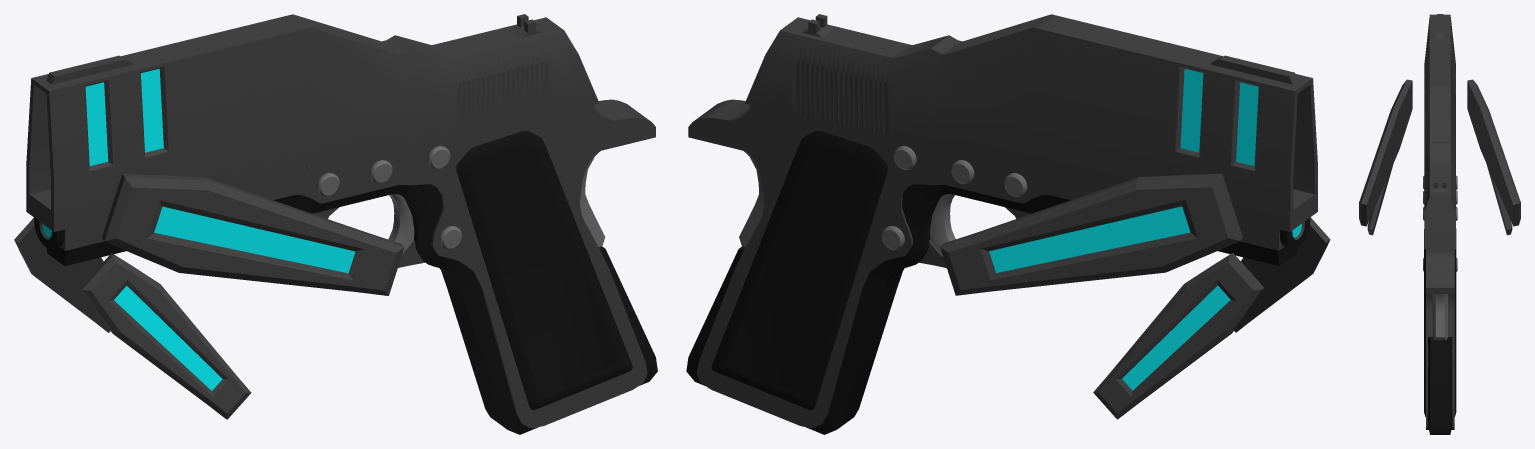
The model's file is Scifigun.FBX.
3 renders of one model, left to right at view 1: azimuth 30°, elevation 25°; view 2: azimuth 150°, elevation 25°; view 3: azimuth 270°, elevation 25°, orthographic. The views are drawn at different scales.
Visible parts, largest first — view 1: Object001; view 2: Object001; view 3: Object001.
Boxes of the visible parts, x1,y1,x2,y2 form: Object001: [14, 14, 657, 434]; Object001: [686, 14, 1330, 434]; Object001: [1359, 14, 1520, 434].
Size of the model in its own units: 324 by 237 by 129.
